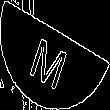M_NE: (32, 23, 78, 87)
